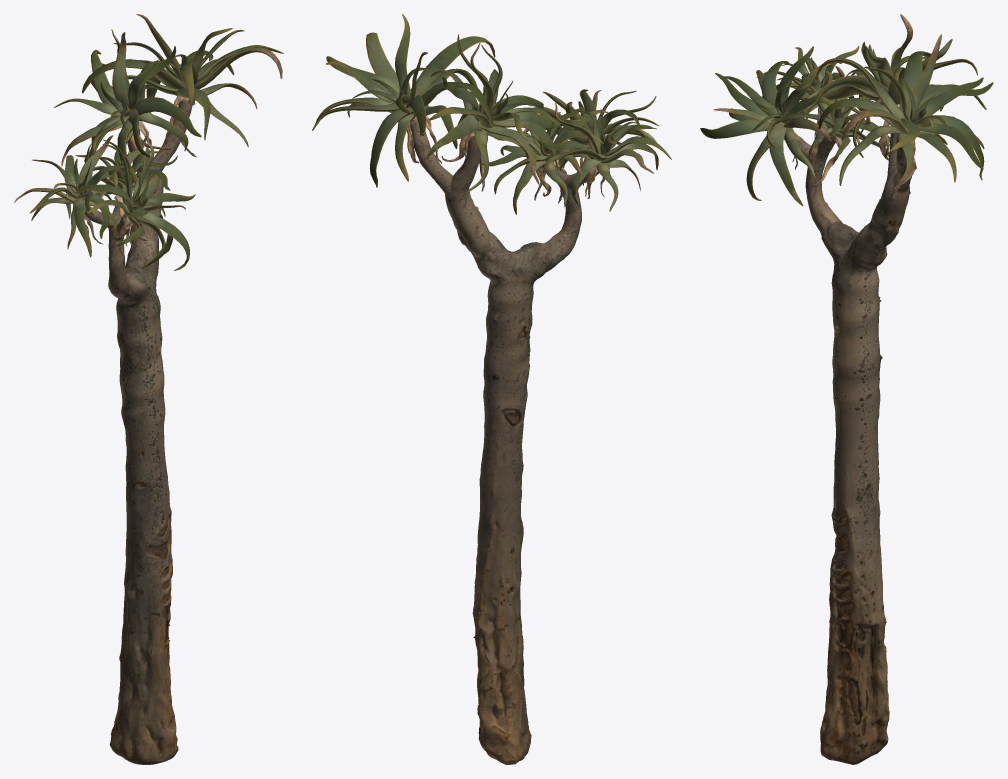
3 views of the same model, side by side, from view 1: azimuth 30°, elevation 25°; view 2: azimuth 150°, elevation 25°; view 3: azimuth 270°, elevation 25° (orthographic). The views are drawn at different scales.
Parts seen in each view (by area): view 1: quiver_tree_01; view 2: quiver_tree_01; view 3: quiver_tree_01.
Part boxes in pixels (x1,y1,x2,y2): quiver_tree_01: (14, 14, 283, 764); quiver_tree_01: (312, 14, 671, 764); quiver_tree_01: (700, 14, 993, 764).
Bounding box in the file's own units: 1.18 × 2.72 × 0.9685.
2 materials, 2 textured.
